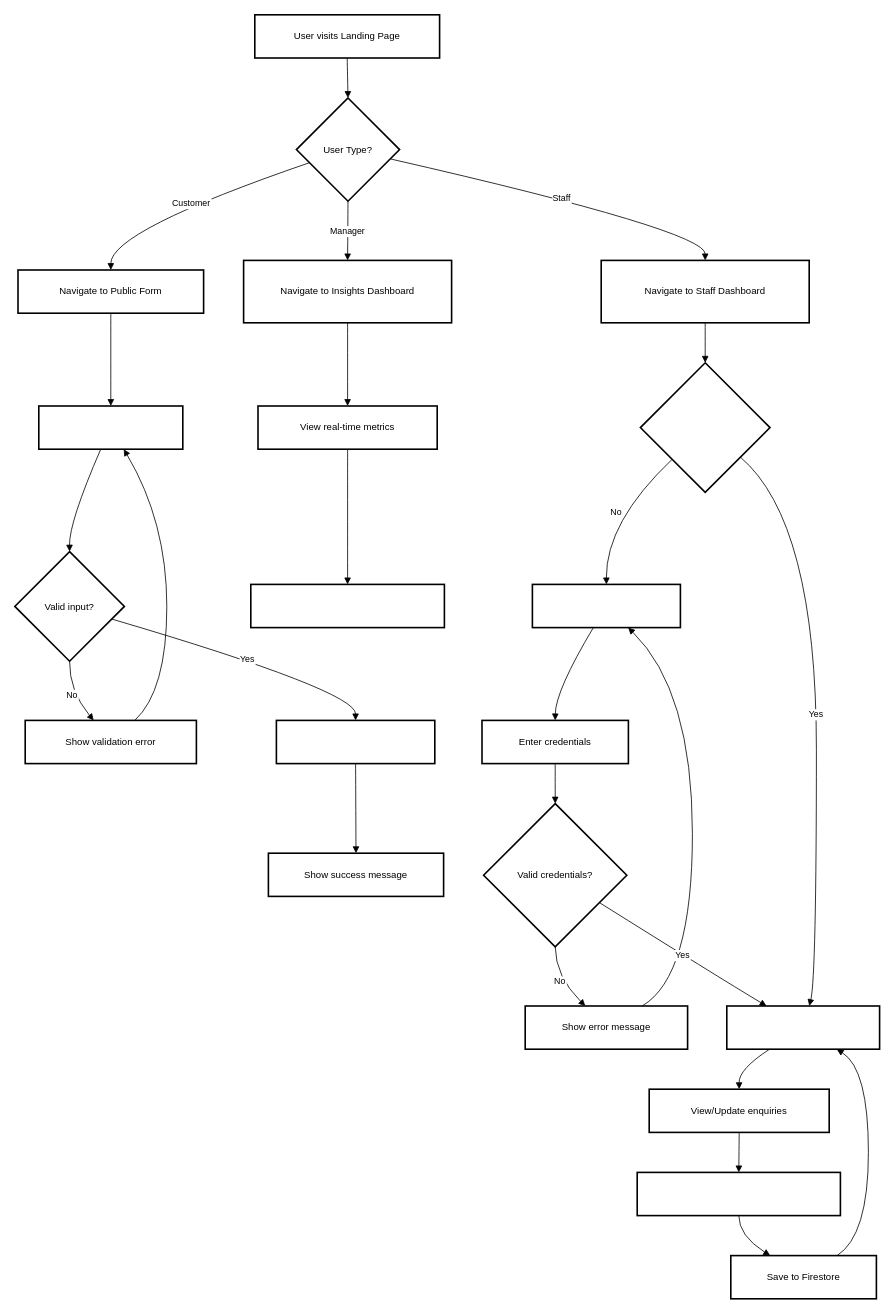
Some shapes in this 894 by 1313 pixel diagram are drawn without their labels. The centre of each missing label's shape, as x and y in pixels:
"Analyse enquiry statistics" goes at (x=347, y=605).
"Authenticated?" goes at (x=704, y=427).
"Change status or add notes" goes at (x=738, y=1193).
"Fill enquiry form" goes at (x=110, y=427).
"Load enquiries list" goes at (x=803, y=1027).
"Show login modal" goes at (x=606, y=605).
"Submit to Firestore" goes at (x=355, y=741).
